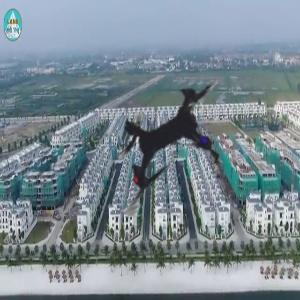drone: (50, 25, 289, 264)
